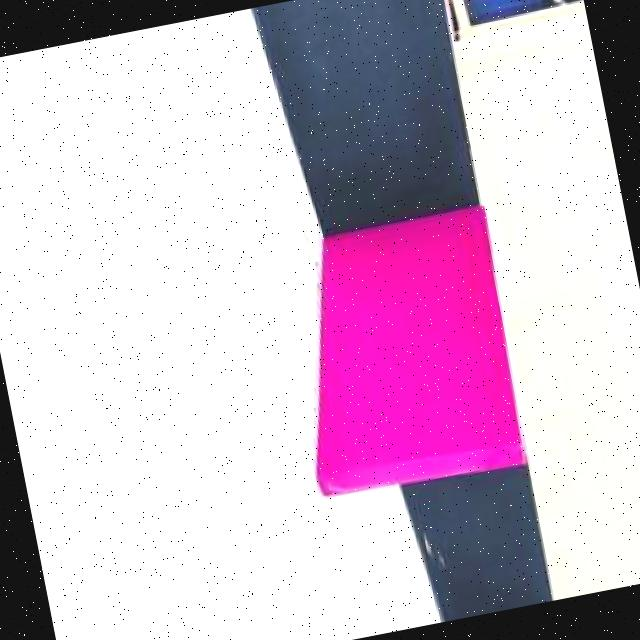xparking: (292, 203, 530, 496)
